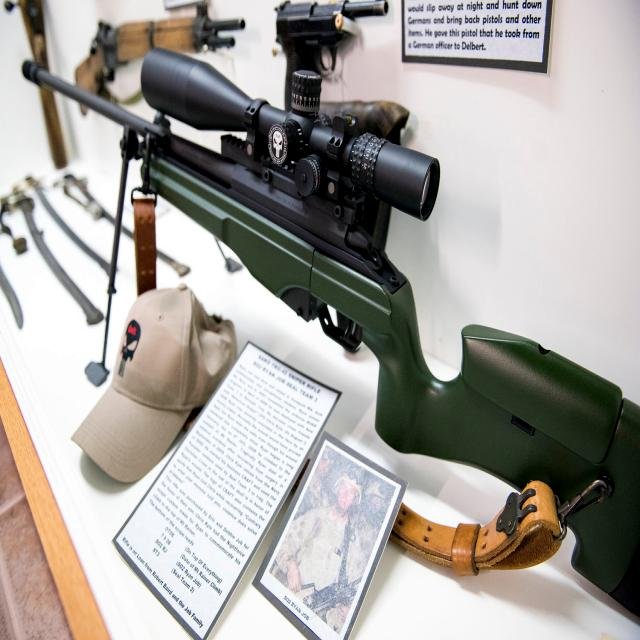rifle: (15, 26, 640, 620)
